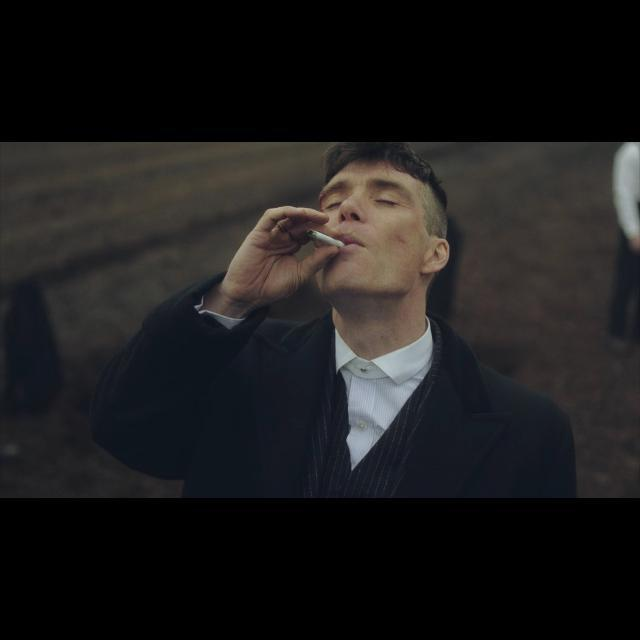rokok: (306, 227, 348, 251)
